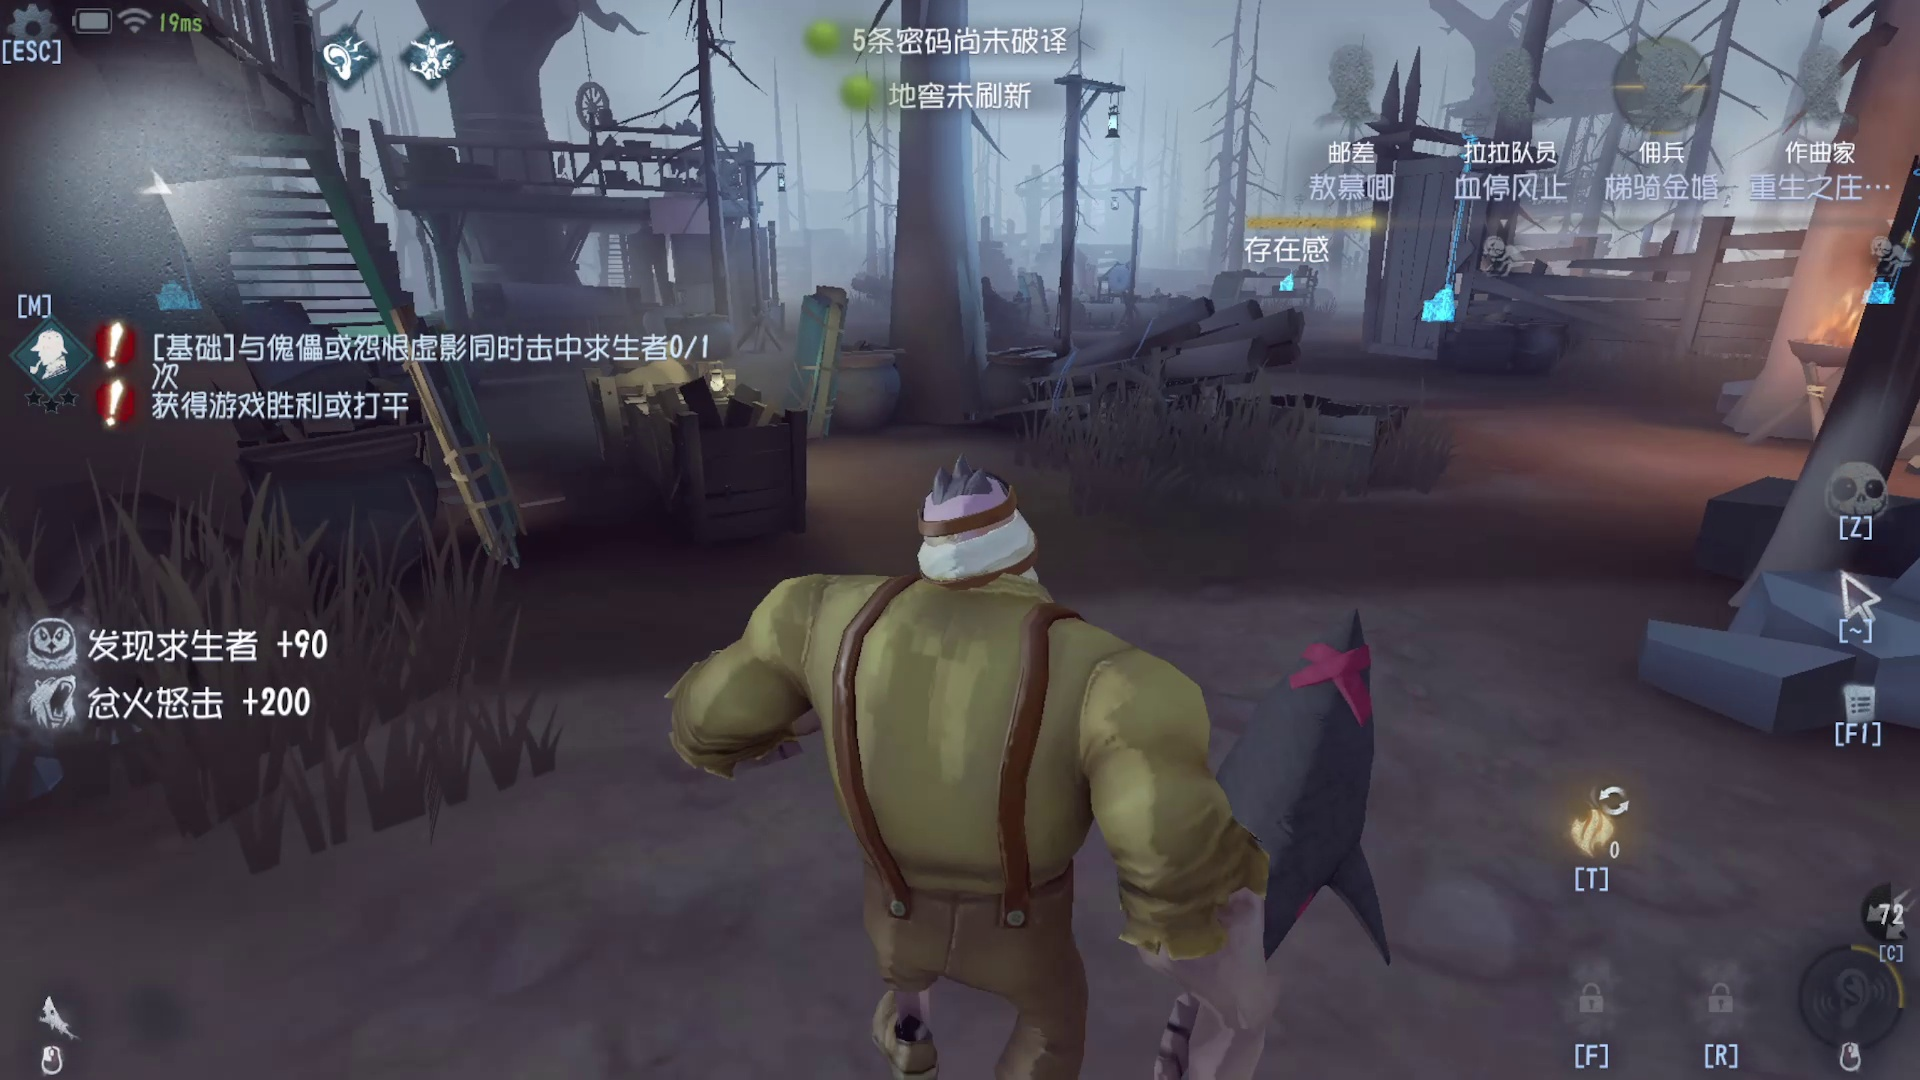密码机: (123, 120, 227, 335), (1261, 167, 1335, 319), (1425, 131, 1472, 348)
木板: (382, 248, 596, 576), (762, 273, 866, 442)
